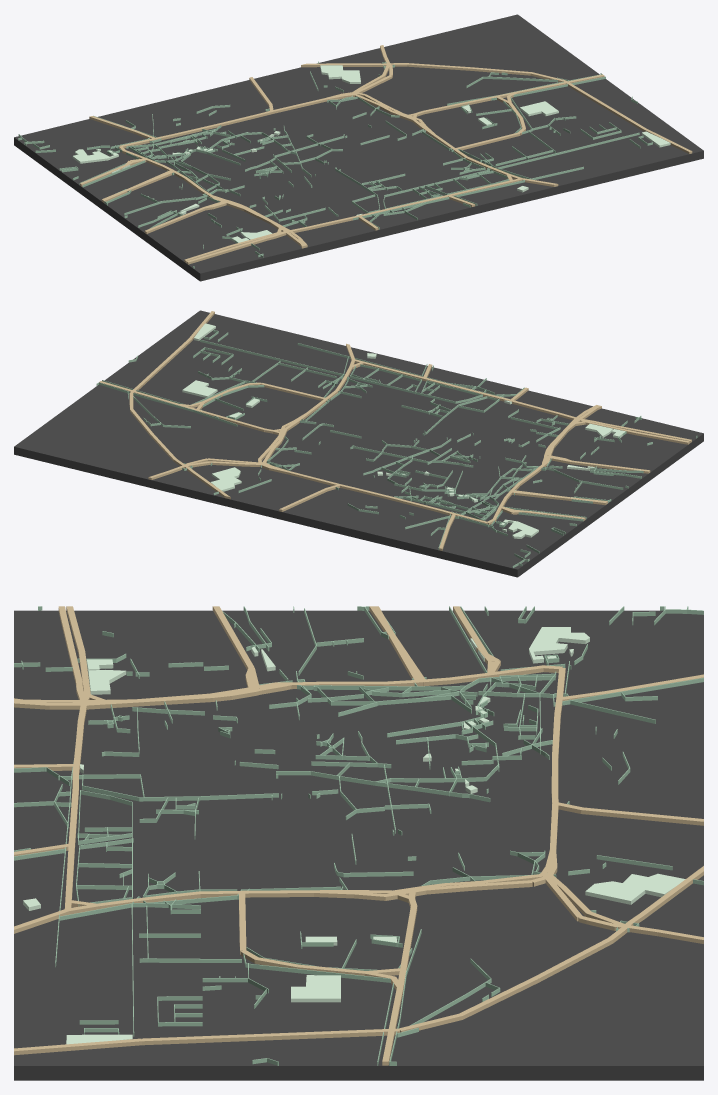
Rendered from klagenfurt.gltf.
3 views of the same model, one above another, from view 1: azimuth 30°, elevation 25°; view 2: azimuth 150°, elevation 25°; view 3: azimuth 270°, elevation 25° (orthographic). The views are drawn at different scales.
Visible parts, largest first — view 1: modelgltf; view 2: modelgltf; view 3: modelgltf.
Part boxes in pixels (x1=…): modelgltf: x1=14, y1=14, x2=703, y2=281; modelgltf: x1=14, y1=310, x2=703, y2=577; modelgltf: x1=14, y1=606, x2=703, y2=1080.
Size of the model in its own units: 1.09 by 0.0212 by 0.6989.
